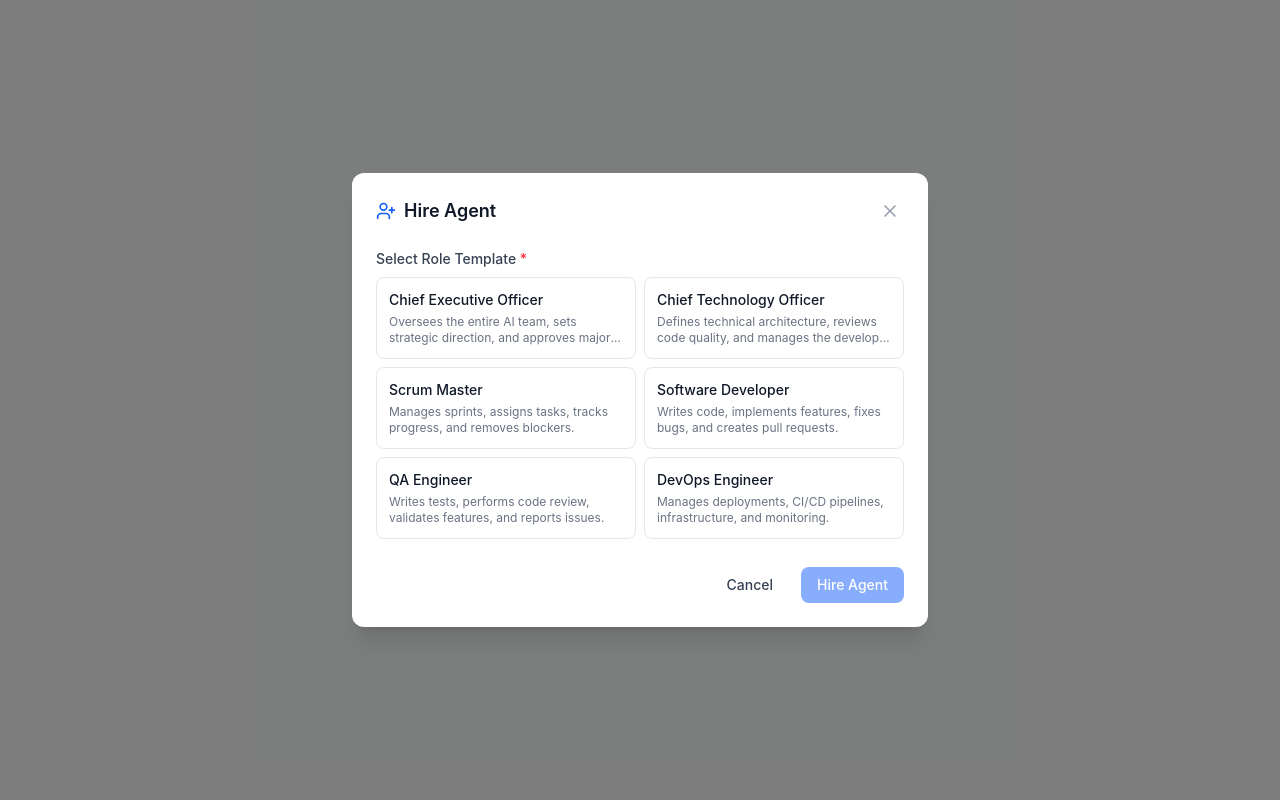
Test case: AgentForm › shows name input after template selection
The width and height of the screenshot is (1280, 800).
Note: Click a template
Click the text "Software Developer": (723,390) [657,381,789,398]
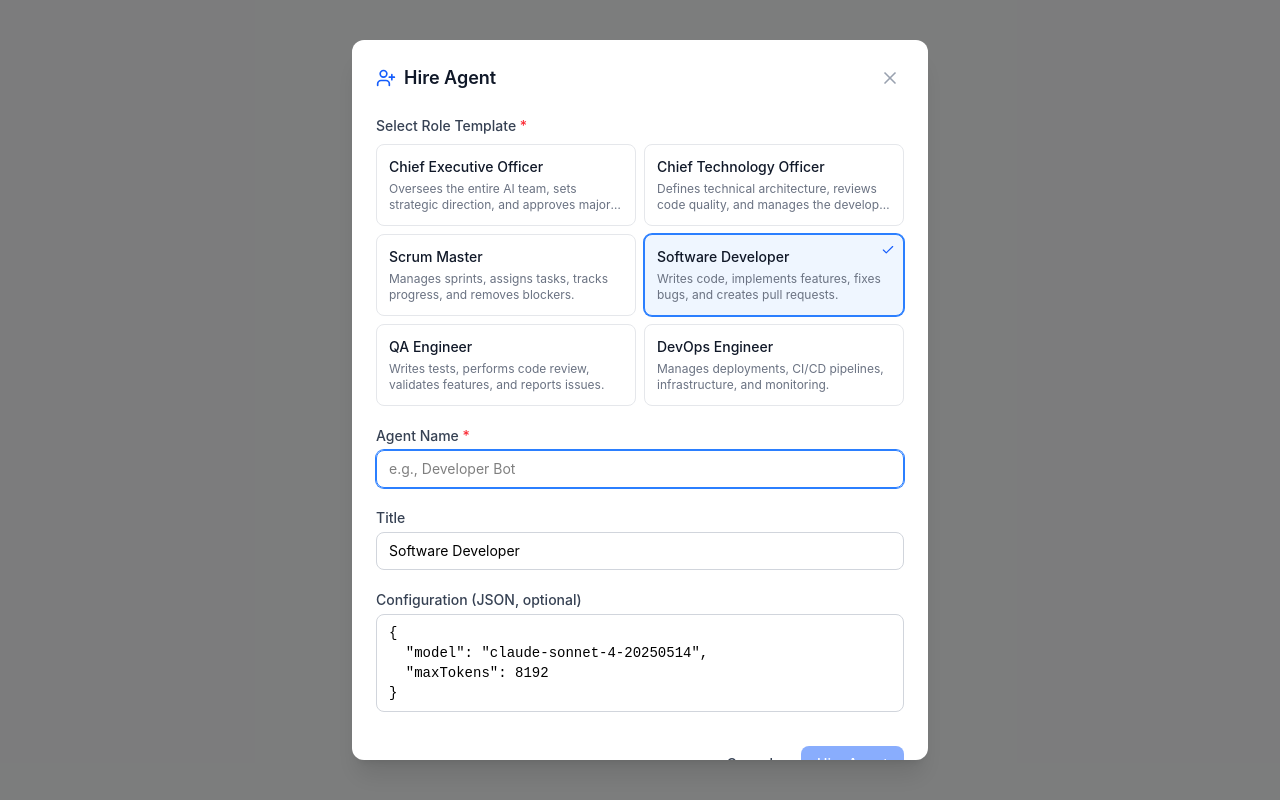
Check: the field labelled "Agent Name *" is shown, box [376,450,904,488]
